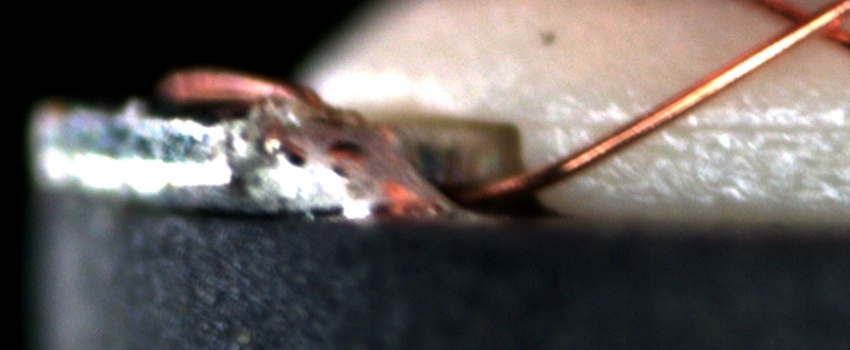CL: (769, 1, 844, 49)
DL: (547, 95, 849, 159)
TE: (146, 68, 345, 124)
